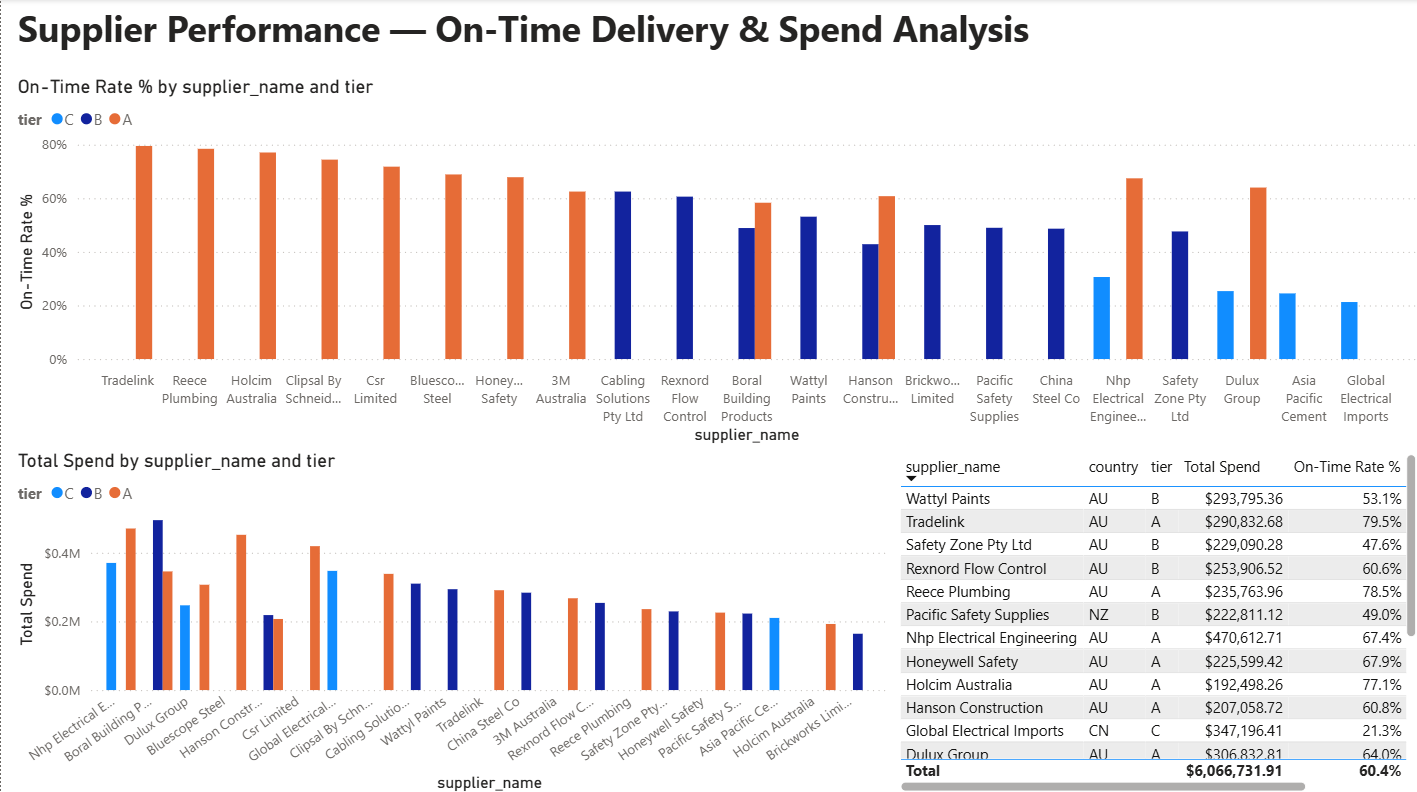

What the dashboard file says about the page in this screenshot:
{"tool":"powerbi","page":{"name":"Supplier Performance","canvas":[1280,720],"ordinal":1},"visuals":[{"type":"textbox","box":[9.6,0,1001.7,68.6],"z":0},{"type":"clusteredColumnChart","fields":{"Category":["dim_suppliers.supplier_name"],"Y":["_Measures.On-Time Rate %"],"Series":["dim_suppliers.tier"]},"box":[9.9,69,1270.4,336.6],"z":1000},{"type":"clusteredColumnChart","fields":{"Y":["_Measures.Total Spend"],"Category":["dim_suppliers.supplier_name"],"Series":["dim_suppliers.tier"]},"box":[9.9,405.6,794.4,314.1],"z":2000},{"type":"tableEx","fields":{"Values":["dim_suppliers.supplier_name","dim_suppliers.country","dim_suppliers.tier","_Measures.Total Spend","_Measures.On-Time Rate %","dim_suppliers.Data_quality_flag"]},"box":[804.2,405.6,476.1,314.1],"z":2001}]}

Visuals, with their boxes in screenshot pixels (x1, y1, x2, y2), scaled from the page's 1280x720 canvas onto the 1417x792 screenshot:
textbox: box(11, 0, 1120, 75)
clusteredColumnChart - dim_suppliers.supplier_name x _Measures.On-Time Rate %: box(11, 76, 1416, 446)
clusteredColumnChart - _Measures.Total Spend x dim_suppliers.supplier_name: box(11, 446, 890, 791)
tableEx - dim_suppliers.supplier_name x dim_suppliers.country: box(890, 446, 1416, 791)
